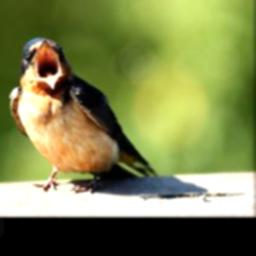Swallow: (8, 36, 160, 194)
